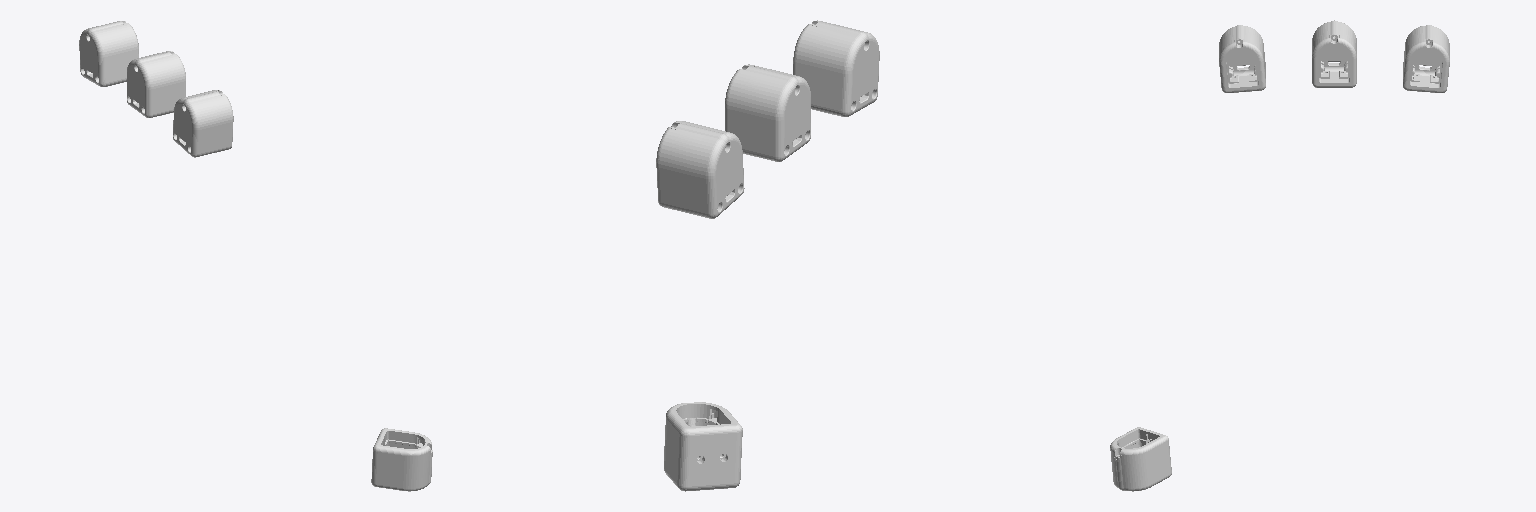
robot.urdf — allegro_hand_left:
<?xml version="1.0" ?>
<!-- =================================================================================== -->
<!-- |    This document was autogenerated by xacro from allegro_hand_description_left.xacro | -->
<!-- |    EDITING THIS FILE BY HAND IS NOT RECOMMENDED                                 | -->
<!-- =================================================================================== -->
<robot name="allegro_hand_left" xmlns:xacro="http://www.ros.org/wiki/xacro">
  <!-- ======================== BASE PARAMS ========================= -->
  <!-- ======================== FINGER PARAMS ======================== -->
  <!-- full height from joint to tip. when used,
         the radius of the finger tip sphere will be subtracted
         and one fixed link will be added for the tip. -->
  <!-- ========================= THUMB PARAMS ========================= -->
  <!-- ========================= LIMITS ========================= -->
  <!-- ============================================================================= -->
  <!-- PALM -->
  <link name="palm_link">
    <visual>
      <geometry>
        <mesh filename="meshes/base_link_left.STL"/>
      </geometry>
      <origin rpy="-1.5707963259 0 0" xyz="0 0 0 "/>
      <material name="black">
        <color rgba="0.2 0.2 0.2 1"/>
      </material>
    </visual>
    <collision>
      <origin rpy="0 0 0" xyz="-0.009300 0 -0.0475"/>
      <geometry>
        <box size="0.0408 0.1130 0.095"/>
      </geometry>
    </collision>
    <inertial>
      <origin rpy="0 0 0" xyz="0 0 0.0475"/>
      <mass value="0.4154"/>
      <inertia ixx="1e-4" ixy="0.0" ixz="0.0" iyy="1e-4" iyz="0.0" izz="1e-4"/>
    </inertial>
  </link>
  <!-- ============================================================================= -->
  <!-- FINGERS -->
  <!-- RIGHT HAND due to which finger is number 0 -->
  <!-- for LEFT HAND switch the sign of the **offset_origin_y** and **finger_angle_r** parameters-->
  <!-- [LINK 0, 4, 8] -->
  <link name="link_8.0">
    <visual>
      <geometry>
        <mesh filename="meshes/link_0.0.STL"/>
      </geometry>
      <material name="black"/>
    </visual>
    <collision>
      <geometry>
        <box size="0.0196 0.0275 0.0164"/>
      </geometry>
      <origin rpy="0 0 0" xyz="0 0 0.0082"/>
    </collision>
    <inertial>
      <mass value="0.0119"/>
      <origin rpy="0 0 0" xyz="0 0 0"/>
      <inertia ixx="1.01666658333e-06" ixy="0.0" ixz="0.0" iyy="6.47677333333e-07" iyz="0.0" izz="1.01666658333e-06"/>
    </inertial>
  </link>
  <joint name="joint_8.0" type="revolute">
    <axis xyz="0 0 1"/>
    <limit effort="15" lower="-0.47" upper="0.47" velocity="7"/>
    <parent link="palm_link"/>
    <child link="link_8.0"/>
    <origin rpy="-0.08726646255 0 0" xyz="0 0.0435 -0.001542"/>
    <dynamics damping="3" friction="10"/>
  </joint>
  <!-- [LINK 1, 5, 9] -->
  <link name="link_9.0">
    <visual>
      <geometry>
        <mesh filename="meshes/link_1.0.STL"/>
      </geometry>
      <material name="black"/>
    </visual>
    <collision>
      <geometry>
        <box size="0.0196 0.0275 0.054"/>
      </geometry>
      <origin rpy="0 0 0" xyz="0 0 0.027"/>
    </collision>
    <inertial>
      <mass value="0.065"/>
      <origin rpy="0 0 0" xyz="0 0 0"/>
      <inertia ixx="7.95654166667e-05" ixy="1.7199e-05" ixz="8.75875e-06" iyy="2.47088833333e-05" iyz="2.413125e-05" izz="7.95654166667e-05"/>
    </inertial>
  </link>
  <joint name="joint_9.0" type="revolute">
    <limit effort="15" lower="-0.196" upper="1.61" velocity="7"/>
    <axis xyz="0 1 0"/>
    <parent link="link_8.0"/>
    <child link="link_9.0"/>
    <origin xyz="0 0 0.0164"/>
    <dynamics damping="3" friction="5"/>
  </joint>
  <!-- [LINK 2, 6, 10]-->
  <link name="link_10.0">
    <visual>
      <geometry>
        <mesh filename="meshes/link_2.0.STL"/>
      </geometry>
      <material name="black"/>
    </visual>
    <collision>
      <geometry>
        <box size="0.0196 0.0275 0.0384"/>
      </geometry>
      <origin rpy="0 0 0" xyz="0 0 0.0192"/>
    </collision>
    <inertial>
      <mass value="0.0355"/>
      <origin rpy="0 0 0" xyz="0 0 0"/>
      <inertia ixx="2.63979183333e-05" ixy="6.67968e-06" ixz="4.783625e-06" iyy="1.34948516667e-05" iyz="9.372e-06" izz="2.63979183333e-05"/>
    </inertial>
  </link>
  <joint name="joint_10.0" type="revolute">
    <axis xyz="0 1 0"/>
    <limit effort="15" lower="-0.174" upper="1.709" velocity="7"/>
    <parent link="link_9.0"/>
    <child link="link_10.0"/>
    <origin xyz="0 0 0.054"/>
    <dynamics damping="8" friction="10"/>
  </joint>
  <!-- [LINK 3, 7, 11] -->
  <link name="link_11.0">
    <visual>
      <geometry>
        <mesh filename="meshes/link_3.0.STL"/>
      </geometry>
      <material name="black"/>
    </visual>
    <collision>
      <geometry>
        <box size="0.0196 0.0275 0.0267"/>
      </geometry>
      <origin rpy="0 0 0" xyz="0 0 0.01335"/>
    </collision>
    <inertial>
      <mass value="0.0096"/>
      <origin rpy="0 0 0" xyz="0 0 0"/>
      <inertia ixx="4.701248e-06" ixy="1.255968e-06" ixz="1.2936e-06" iyy="3.649312e-06" iyz="1.7622e-06" izz="4.701248e-06"/>
    </inertial>
  </link>
  <joint name="joint_11.0" type="revolute">
    <axis xyz="0 1 0"/>
    <limit effort="15" lower="-0.227" upper="1.618" velocity="7"/>
    <parent link="link_10.0"/>
    <child link="link_11.0"/>
    <origin xyz="0 0 0.0384"/>
    <dynamics damping="10" friction="12"/>
  </joint>
  <!-- [FINGER TIP] -->
  <link name="link_11.0_tip">
    <visual>
      <geometry>
        <mesh filename="meshes/digit_base.stl"/>
      </geometry>
      <material name="white">
        <color rgba=".9 .9 .9 1"/>
      </material>
    </visual>
    <collision>
      <geometry>
        <sphere radius="0.012"/>
      </geometry>
    </collision>
    <inertial>
      <mass value="0.0168"/>
      <origin rpy="0 0 0" xyz="0 0 0"/>
      <inertia ixx="9.68e-07" ixy="0" ixz="0" iyy="9.68e-07" iyz="0" izz="9.68e-07"/>
    </inertial>
  </link>
  <joint name="joint_11.0_tip" type="fixed">
    <parent link="link_11.0"/>
    <child link="link_11.0_tip"/>
    <origin rpy="0 0 0" xyz="0 0 0.0267"/>
  </joint>
  <!-- [LINK 0, 4, 8] -->
  <link name="link_4.0">
    <visual>
      <geometry>
        <mesh filename="meshes/link_0.0.STL"/>
      </geometry>
      <material name="black"/>
    </visual>
    <collision>
      <geometry>
        <box size="0.0196 0.0275 0.0164"/>
      </geometry>
      <origin rpy="0 0 0" xyz="0 0 0.0082"/>
    </collision>
    <inertial>
      <mass value="0.0119"/>
      <origin rpy="0 0 0" xyz="0 0 0"/>
      <inertia ixx="1.01666658333e-06" ixy="0.0" ixz="0.0" iyy="6.47677333333e-07" iyz="0.0" izz="1.01666658333e-06"/>
    </inertial>
  </link>
  <joint name="joint_4.0" type="revolute">
    <axis xyz="0 0 1"/>
    <limit effort="15" lower="-0.47" upper="0.47" velocity="7"/>
    <parent link="palm_link"/>
    <child link="link_4.0"/>
    <origin rpy="0.0 0 0" xyz="0 0 0.0007"/>
    <dynamics damping="3" friction="10"/>
  </joint>
  <!-- [LINK 1, 5, 9] -->
  <link name="link_5.0">
    <visual>
      <geometry>
        <mesh filename="meshes/link_1.0.STL"/>
      </geometry>
      <material name="black"/>
    </visual>
    <collision>
      <geometry>
        <box size="0.0196 0.0275 0.054"/>
      </geometry>
      <origin rpy="0 0 0" xyz="0 0 0.027"/>
    </collision>
    <inertial>
      <mass value="0.065"/>
      <origin rpy="0 0 0" xyz="0 0 0"/>
      <inertia ixx="7.95654166667e-05" ixy="1.7199e-05" ixz="8.75875e-06" iyy="2.47088833333e-05" iyz="2.413125e-05" izz="7.95654166667e-05"/>
    </inertial>
  </link>
  <joint name="joint_5.0" type="revolute">
    <limit effort="15" lower="-0.196" upper="1.61" velocity="7"/>
    <axis xyz="0 1 0"/>
    <parent link="link_4.0"/>
    <child link="link_5.0"/>
    <origin xyz="0 0 0.0164"/>
    <dynamics damping="3" friction="5"/>
  </joint>
  <!-- [LINK 2, 6, 10]-->
  <link name="link_6.0">
    <visual>
      <geometry>
        <mesh filename="meshes/link_2.0.STL"/>
      </geometry>
      <material name="black"/>
    </visual>
    <collision>
      <geometry>
        <box size="0.0196 0.0275 0.0384"/>
      </geometry>
      <origin rpy="0 0 0" xyz="0 0 0.0192"/>
    </collision>
    <inertial>
      <mass value="0.0355"/>
      <origin rpy="0 0 0" xyz="0 0 0"/>
      <inertia ixx="2.63979183333e-05" ixy="6.67968e-06" ixz="4.783625e-06" iyy="1.34948516667e-05" iyz="9.372e-06" izz="2.63979183333e-05"/>
    </inertial>
  </link>
  <joint name="joint_6.0" type="revolute">
    <axis xyz="0 1 0"/>
    <limit effort="15" lower="-0.174" upper="1.709" velocity="7"/>
    <parent link="link_5.0"/>
    <child link="link_6.0"/>
    <origin xyz="0 0 0.054"/>
    <dynamics damping="8" friction="10"/>
  </joint>
  <!-- [LINK 3, 7, 11] -->
  <link name="link_7.0">
    <visual>
      <geometry>
        <mesh filename="meshes/link_3.0.STL"/>
      </geometry>
      <material name="black"/>
    </visual>
    <collision>
      <geometry>
        <box size="0.0196 0.0275 0.0267"/>
      </geometry>
      <origin rpy="0 0 0" xyz="0 0 0.01335"/>
    </collision>
    <inertial>
      <mass value="0.0096"/>
      <origin rpy="0 0 0" xyz="0 0 0"/>
      <inertia ixx="4.701248e-06" ixy="1.255968e-06" ixz="1.2936e-06" iyy="3.649312e-06" iyz="1.7622e-06" izz="4.701248e-06"/>
    </inertial>
  </link>
  <joint name="joint_7.0" type="revolute">
    <axis xyz="0 1 0"/>
    <limit effort="15" lower="-0.227" upper="1.618" velocity="7"/>
    <parent link="link_6.0"/>
    <child link="link_7.0"/>
    <origin xyz="0 0 0.0384"/>
    <dynamics damping="10" friction="12"/>
  </joint>
  <!-- [FINGER TIP] -->
  <link name="link_7.0_tip">
    <visual>
      <geometry>
        <mesh filename="meshes/digit_base.stl"/>
      </geometry>
      <material name="white">
        <color rgba=".9 .9 .9 1"/>
      </material>
    </visual>
    <collision>
      <geometry>
        <sphere radius="0.012"/>
      </geometry>
    </collision>
    <inertial>
      <mass value="0.0168"/>
      <origin rpy="0 0 0" xyz="0 0 0"/>
      <inertia ixx="9.68e-07" ixy="0" ixz="0" iyy="9.68e-07" iyz="0" izz="9.68e-07"/>
    </inertial>
  </link>
  <joint name="joint_7.0_tip" type="fixed">
    <parent link="link_7.0"/>
    <child link="link_7.0_tip"/>
    <origin rpy="0 0 0" xyz="0 0 0.0267"/>
  </joint>
  <!-- [LINK 0, 4, 8] -->
  <link name="link_0.0">
    <visual>
      <geometry>
        <mesh filename="meshes/link_0.0.STL"/>
      </geometry>
      <material name="black"/>
    </visual>
    <collision>
      <geometry>
        <box size="0.0196 0.0275 0.0164"/>
      </geometry>
      <origin rpy="0 0 0" xyz="0 0 0.0082"/>
    </collision>
    <inertial>
      <mass value="0.0119"/>
      <origin rpy="0 0 0" xyz="0 0 0"/>
      <inertia ixx="1.01666658333e-06" ixy="0.0" ixz="0.0" iyy="6.47677333333e-07" iyz="0.0" izz="1.01666658333e-06"/>
    </inertial>
  </link>
  <joint name="joint_0.0" type="revolute">
    <axis xyz="0 0 1"/>
    <limit effort="15" lower="-0.47" upper="0.47" velocity="7"/>
    <parent link="palm_link"/>
    <child link="link_0.0"/>
    <origin rpy="0.08726646255 0 0" xyz="0 -0.0435 -0.001542"/>
    <dynamics damping="3" friction="10"/>
  </joint>
  <!-- [LINK 1, 5, 9] -->
  <link name="link_1.0">
    <visual>
      <geometry>
        <mesh filename="meshes/link_1.0.STL"/>
      </geometry>
      <material name="black"/>
    </visual>
    <collision>
      <geometry>
        <box size="0.0196 0.0275 0.054"/>
      </geometry>
      <origin rpy="0 0 0" xyz="0 0 0.027"/>
    </collision>
    <inertial>
      <mass value="0.065"/>
      <origin rpy="0 0 0" xyz="0 0 0"/>
      <inertia ixx="7.95654166667e-05" ixy="1.7199e-05" ixz="8.75875e-06" iyy="2.47088833333e-05" iyz="2.413125e-05" izz="7.95654166667e-05"/>
    </inertial>
  </link>
  <joint name="joint_1.0" type="revolute">
    <limit effort="15" lower="-0.196" upper="1.61" velocity="7"/>
    <axis xyz="0 1 0"/>
    <parent link="link_0.0"/>
    <child link="link_1.0"/>
    <origin xyz="0 0 0.0164"/>
    <dynamics damping="3" friction="5"/>
  </joint>
  <!-- [LINK 2, 6, 10]-->
  <link name="link_2.0">
    <visual>
      <geometry>
        <mesh filename="meshes/link_2.0.STL"/>
      </geometry>
      <material name="black"/>
    </visual>
    <collision>
      <geometry>
        <box size="0.0196 0.0275 0.0384"/>
      </geometry>
      <origin rpy="0 0 0" xyz="0 0 0.0192"/>
    </collision>
    <inertial>
      <mass value="0.0355"/>
      <origin rpy="0 0 0" xyz="0 0 0"/>
      <inertia ixx="2.63979183333e-05" ixy="6.67968e-06" ixz="4.783625e-06" iyy="1.34948516667e-05" iyz="9.372e-06" izz="2.63979183333e-05"/>
    </inertial>
  </link>
  <joint name="joint_2.0" type="revolute">
    <axis xyz="0 1 0"/>
    <limit effort="15" lower="-0.174" upper="1.709" velocity="7"/>
    <parent link="link_1.0"/>
    <child link="link_2.0"/>
    <origin xyz="0 0 0.054"/>
    <dynamics damping="8" friction="10"/>
  </joint>
  <!-- [LINK 3, 7, 11] -->
  <link name="link_3.0">
    <visual>
      <geometry>
        <mesh filename="meshes/link_3.0.STL"/>
      </geometry>
      <material name="black"/>
    </visual>
    <collision>
      <geometry>
        <box size="0.0196 0.0275 0.0267"/>
      </geometry>
      <origin rpy="0 0 0" xyz="0 0 0.01335"/>
    </collision>
    <inertial>
      <mass value="0.0096"/>
      <origin rpy="0 0 0" xyz="0 0 0"/>
      <inertia ixx="4.701248e-06" ixy="1.255968e-06" ixz="1.2936e-06" iyy="3.649312e-06" iyz="1.7622e-06" izz="4.701248e-06"/>
    </inertial>
  </link>
  <joint name="joint_3.0" type="revolute">
    <axis xyz="0 1 0"/>
    <limit effort="15" lower="-0.227" upper="1.618" velocity="7"/>
    <parent link="link_2.0"/>
    <child link="link_3.0"/>
    <origin xyz="0 0 0.0384"/>
    <dynamics damping="10" friction="12"/>
  </joint>
  <!-- [FINGER TIP] -->
  <link name="link_3.0_tip">
    <visual>
      <geometry>
        <mesh filename="meshes/digit_base.stl"/>
      </geometry>
      <material name="white">
        <color rgba=".9 .9 .9 1"/>
      </material>
    </visual>
    <collision>
      <geometry>
        <sphere radius="0.012"/>
      </geometry>
    </collision>
    <inertial>
      <mass value="0.0168"/>
      <origin rpy="0 0 0" xyz="0 0 0"/>
      <inertia ixx="9.68e-07" ixy="0" ixz="0" iyy="9.68e-07" iyz="0" izz="9.68e-07"/>
    </inertial>
  </link>
  <joint name="joint_3.0_tip" type="fixed">
    <parent link="link_3.0"/>
    <child link="link_3.0_tip"/>
    <origin rpy="0 0 0" xyz="0 0 0.0267"/>
  </joint>
  <!-- THUMB -->
  <!-- [LINK 12] -->
  <link name="link_12.0">
    <visual>
      <geometry>
        <mesh filename="meshes/link_12.0_left.STL"/>
      </geometry>
      <material name="black">
        <color rgba=".2 .2 .2 1"/>
      </material>
      <origin rpy="3.1415926518 0 0" xyz="0 0 0"/>
    </visual>
    <collision>
      <geometry>
        <box size="0.0358 0.034 0.0455"/>
      </geometry>
      <origin rpy="0 0 0" xyz="-0.0179 -0.009 0.0145"/>
    </collision>
    <inertial>
      <mass value="0.0176"/>
      <origin rpy="0 0 0" xyz="0 0 0"/>
      <inertia ixx="1.89273333333e-5" ixy="7.16716e-06" ixz="5.35568e-06" iyy="1.43008213333e-05" iyz="6.8068e-06" izz="1.89273333333e-05"/>
    </inertial>
  </link>
  <joint name="joint_12.0" type="revolute">
    <axis xyz="+1 0 0"/>
    <limit effort="15" lower="0.263" upper="1.396" velocity="7"/>
    <parent link="palm_link"/>
    <child link="link_12.0"/>
    <origin rpy="0 -1.65806278845 1.5707963259" xyz="-0.0182 -0.019333 -0.045987"/>
    <dynamics damping="3" friction="10"/>
  </joint>
  <!-- [LINK 13] -->
  <link name="link_13.0">
    <visual>
      <geometry>
        <mesh filename="meshes/link_13.0.STL"/>
      </geometry>
      <material name="black">
        <color rgba=".2 .2 .2 1"/>
      </material>
    </visual>
    <collision>
      <geometry>
        <box size="0.0196 0.0275 0.0177"/>
      </geometry>
      <origin rpy="0 0 0" xyz="0 0 0.00885"/>
    </collision>
    <inertial>
      <mass value="0.0119"/>
      <origin rpy="0 0 0" xyz="0 0 0"/>
      <inertia ixx="4.24250866667e-06" ixy="1.032087e-06" ixz="1.603525e-06" iyy="4.52362633333e-06" iyz="1.44808125e-06" izz="4.24250866667e-06"/>
    </inertial>
  </link>
  <joint name="joint_13.0" type="revolute">
    <axis xyz="0 0 -1"/>
    <limit effort="15" lower="-0.105" upper="1.163" velocity="7"/>
    <parent link="link_12.0"/>
    <child link="link_13.0"/>
    <origin xyz="-0.027 -0.005 0.0399"/>
    <dynamics damping="3" friction="5"/>
  </joint>
  <!-- [LINK 14] -->
  <link name="link_14.0">
    <visual>
      <geometry>
        <mesh filename="meshes/link_14.0.STL"/>
      </geometry>
      <material name="black">
                </material>
    </visual>
    <collision>
      <geometry>
        <box size="0.0196 0.0275 0.0514"/>
      </geometry>
      <origin rpy="0 0 0" xyz="0 0 0.0257"/>
    </collision>
    <inertial>
      <mass value="0.038"/>
      <origin rpy="0 0 0" xyz="0 0 0"/>
      <inertia ixx="4.30439933333e-05" ixy="9.57068e-06" ixz="5.1205e-06" iyy="1.44451933333e-05" iyz="1.342825e-05" izz="4.30439933333e-05"/>
    </inertial>
  </link>
  <joint name="joint_14.0" type="revolute">
    <axis xyz="0 1 0"/>
    <limit effort="15" lower="-0.189" upper="1.644" velocity="7"/>
    <parent link="link_13.0"/>
    <child link="link_14.0"/>
    <origin xyz="0 0 0.0177"/>
    <dynamics damping="3" friction="10"/>
  </joint>
  <!-- [LINK 15] -->
  <link name="link_15.0">
    <visual>
      <geometry>
        <mesh filename="meshes/link_15.0.STL"/>
      </geometry>
      <material name="black">
                </material>
    </visual>
    <collision>
      <geometry>
        <box size="0.0196 0.0275 0.0423"/>
      </geometry>
      <origin rpy="0 0 0" xyz="0 0 0.02115"/>
    </collision>
    <inertial>
      <mass value="0.0388"/>
      <origin rpy="0 0 0" xyz="0 0 0"/>
      <inertia ixx="3.29223173333e-05" ixy="8.042076e-06" ixz="5.2283e-06" iyy="1.47493026667e-5" iyz="1.1283525e-5" izz="3.29223173333e-05"/>
    </inertial>
  </link>
  <joint name="joint_15.0" type="revolute">
    <axis xyz="0 1 0"/>
    <limit effort="15" lower="-0.162" upper="1.719" velocity="7"/>
    <parent link="link_14.0"/>
    <child link="link_15.0"/>
    <origin xyz="0 0 0.0514"/>
    <dynamics damping="3" friction="12"/>
  </joint>
  <!-- [FINGER TIP] -->
  <link name="link_15.0_tip">
    <visual>
      <geometry>
        <mesh filename="meshes/digit_base.stl"/>
      </geometry>
      <material name="white">
        <color rgba=".9 .9 .9 1"/>
      </material>
    </visual>
    <collision>
      <geometry>
        <sphere radius="0.012"/>
      </geometry>
      <origin rpy="0 0 0" xyz="0 0 0"/>
    </collision>
    <inertial>
      <mass value="0.0168"/>
      <origin rpy="0 0 0" xyz="0 0 0"/>
      <inertia ixx="9.68e-07" ixy="0" ixz="0" iyy="9.68e-07" iyz="0" izz="9.68e-07"/>
    </inertial>
  </link>
  <joint name="joint_15.0_tip" type="fixed">
    <parent link="link_15.0"/>
    <child link="link_15.0_tip"/>
    <origin rpy="0 0 0" xyz="0 0 0.0423"/>
  </joint>
  <!-- ============================================================================= -->
  <!-- THUMB MACRO -->
  <!-- END THUMB MACRO -->
  <!-- THREE FINGER MACRO -->
  <!-- [[END]] THREE FINGER MACRO -->
</robot>

--- Render facts (derived) ---
Views: 3 orthographic renders of the robot side by side, from view 1: azimuth 30°, elevation 25°; view 2: azimuth 150°, elevation 25°; view 3: azimuth 270°, elevation 25°.
Robot: allegro_hand_left — 21 links, 20 joints (16 revolute, 4 fixed); root link palm_link; default pose: joints at zero except 1 at the middle of their limits (joint_12.0 = 0.8295).
Links seen in each view (by area): view 1: link_3.0_tip, link_15.0_tip, link_7.0_tip, link_11.0_tip; view 2: link_11.0_tip, link_7.0_tip, link_3.0_tip, link_15.0_tip; view 3: link_15.0_tip, link_11.0_tip, link_3.0_tip, link_7.0_tip.
Boxes of the visible links, left/top/right/bottom form: link_3.0_tip: left=173, top=90, right=233, bottom=157; link_15.0_tip: left=371, top=428, right=432, bottom=491; link_7.0_tip: left=127, top=51, right=185, bottom=117; link_11.0_tip: left=79, top=21, right=138, bottom=86; link_11.0_tip: left=656, top=121, right=744, bottom=218; link_7.0_tip: left=725, top=64, right=810, bottom=161; link_3.0_tip: left=793, top=20, right=879, bottom=116; link_15.0_tip: left=664, top=402, right=742, bottom=491; link_15.0_tip: left=1110, top=427, right=1171, bottom=491; link_11.0_tip: left=1403, top=25, right=1449, bottom=92; link_3.0_tip: left=1219, top=25, right=1265, bottom=92; link_7.0_tip: left=1312, top=20, right=1356, bottom=87.
Bounding box of the posed robot: 0.1304 × 0.2047 × 0.2554 m (x, y, z).
Meshes: 10 distinct files referenced, 4 mesh visuals loaded (1 binary STL); not drawn: 17 (reference not matched to a file when rendering).